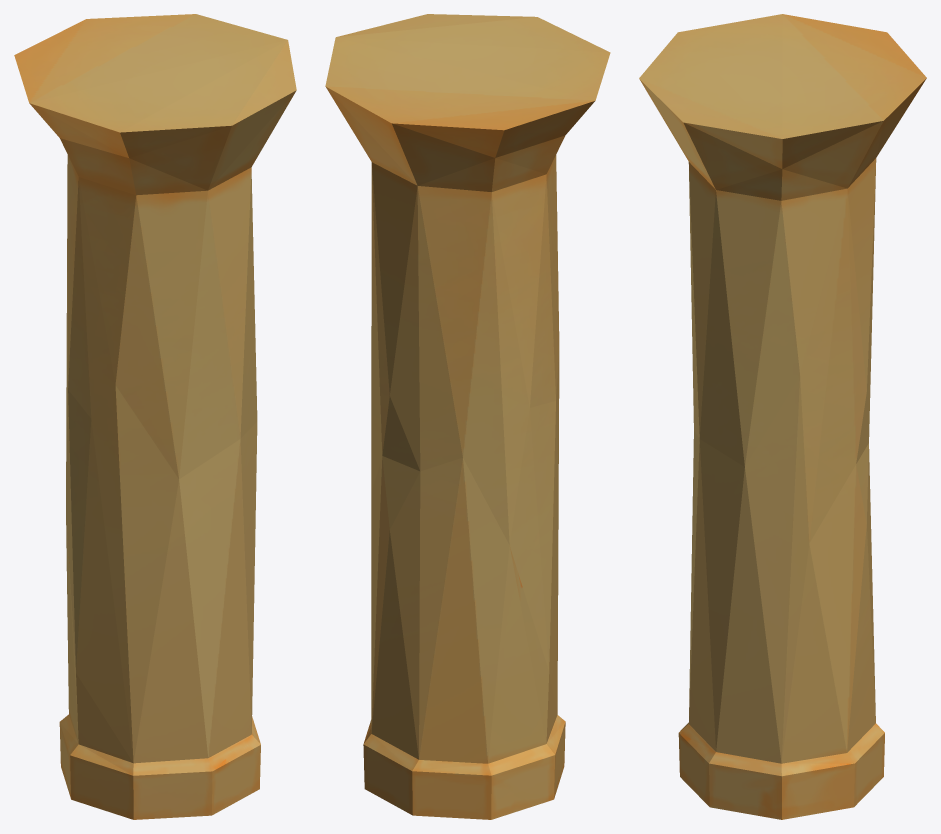
File: Pillar_01.fbx
3 views of the same model, side by side, from view 1: azimuth 30°, elevation 25°; view 2: azimuth 150°, elevation 25°; view 3: azimuth 270°, elevation 25° (orthographic).
Parts seen in each view (by area): view 1: Pillar_01; view 2: Pillar_01; view 3: Pillar_01.
Boxes of the visible parts, x1,y1,x2,y2 form: Pillar_01: (14, 14, 296, 819); Pillar_01: (325, 14, 610, 819); Pillar_01: (639, 14, 926, 819).
Bounding box in the file's own units: 104 × 270 × 101.
1 material, 1 textured.
